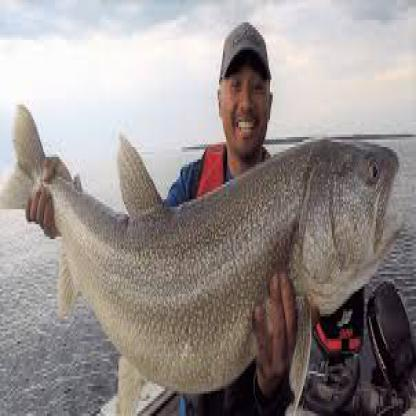fish: (0, 104, 400, 412)
